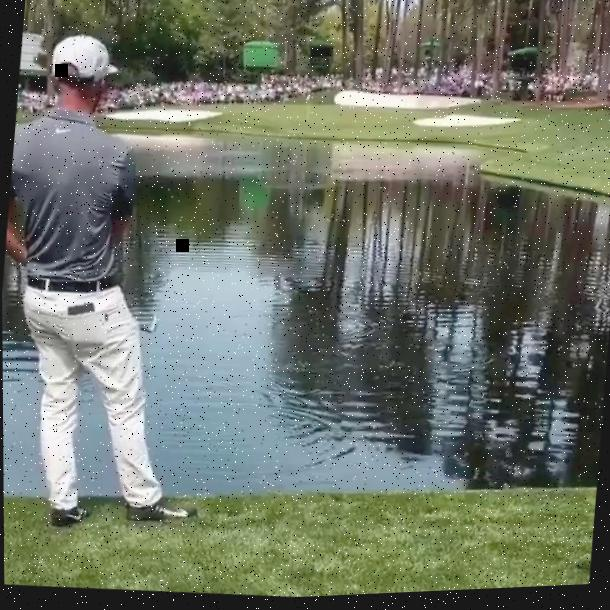ClubHead: (148, 315, 160, 335)
